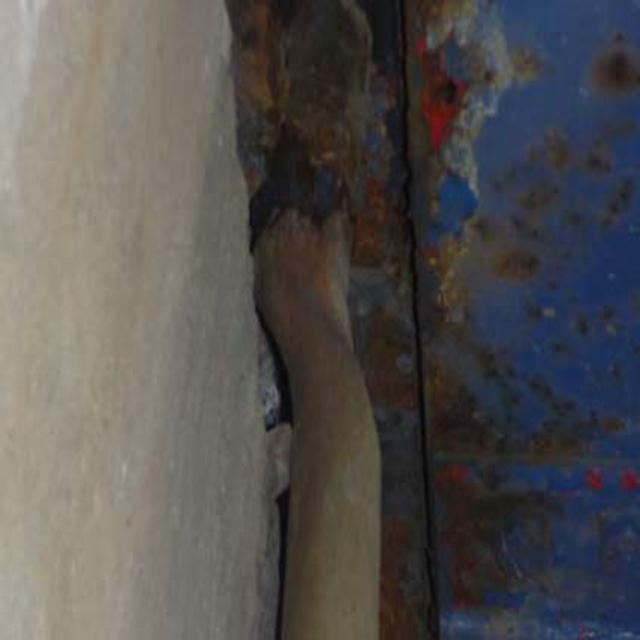freelime: (236, 10, 521, 619)
